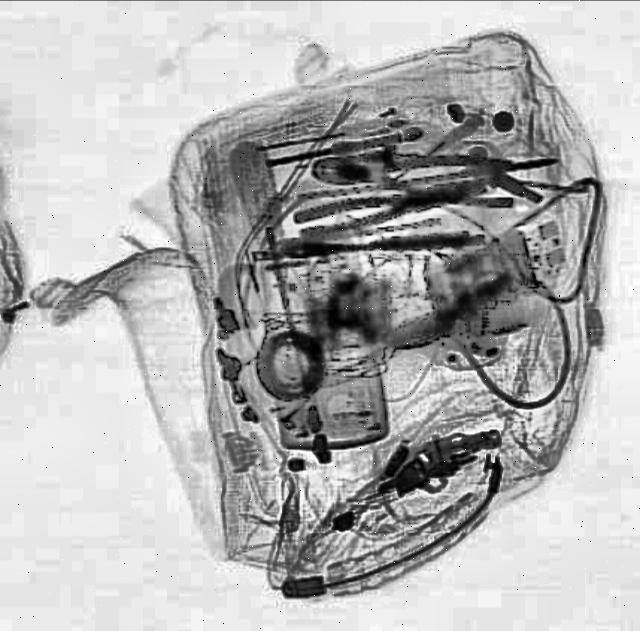Pliers: (289, 170, 487, 248), (309, 148, 513, 212)
